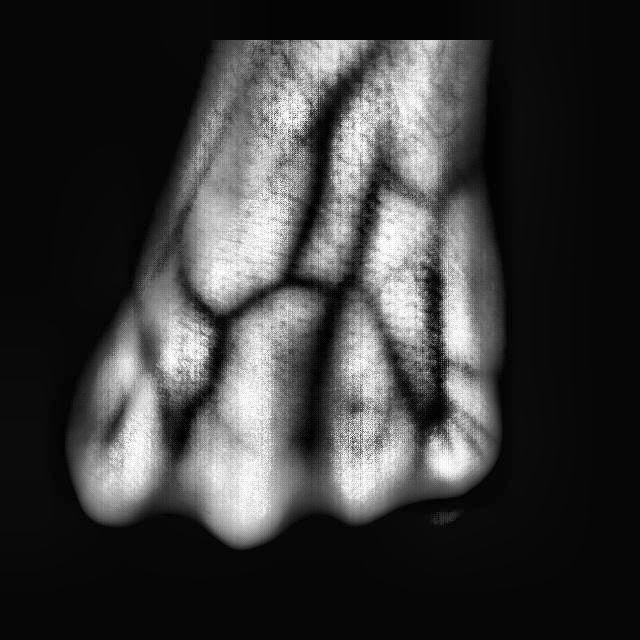Vein: (271, 61, 369, 271), (154, 97, 253, 269)
